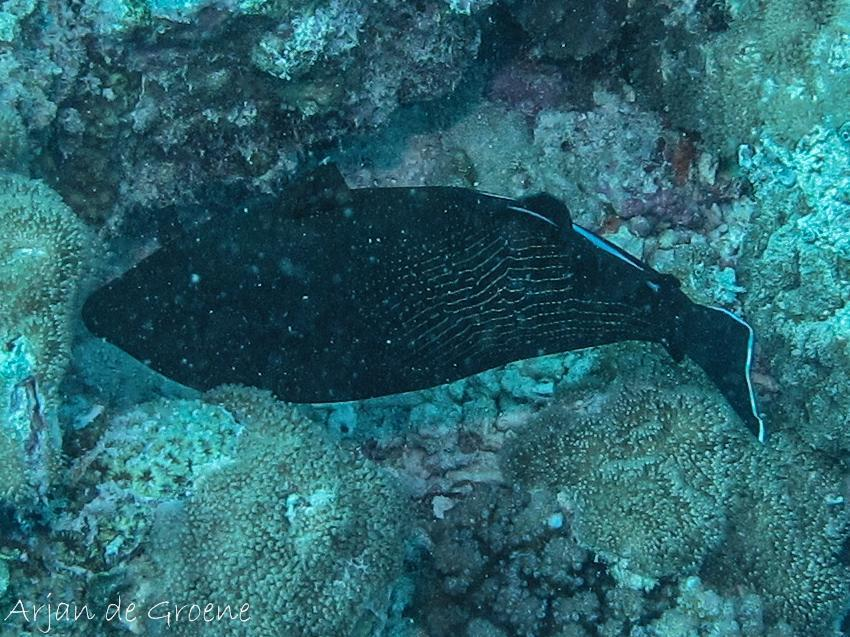Fish: (53, 110, 824, 496)
